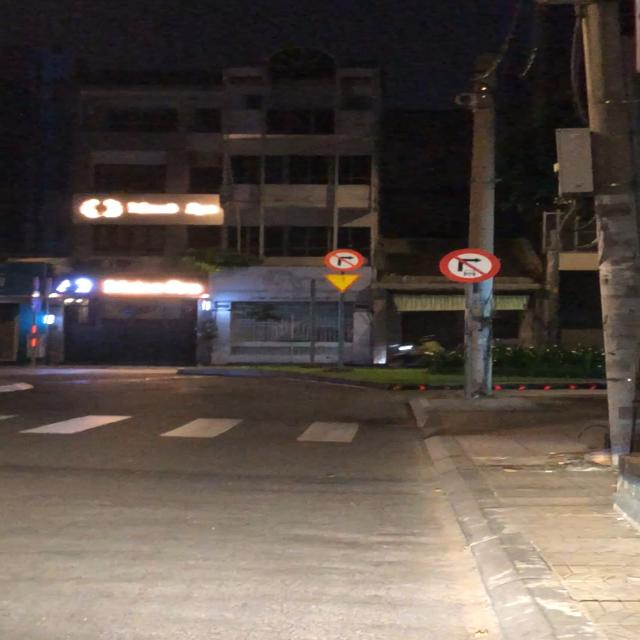Bien bao cam re phai: (322, 248, 368, 271)
Bien bao cam xe o to re phai: (436, 248, 506, 285)
Bien bao giao nhau voi duong uu tien: (321, 272, 364, 294)
